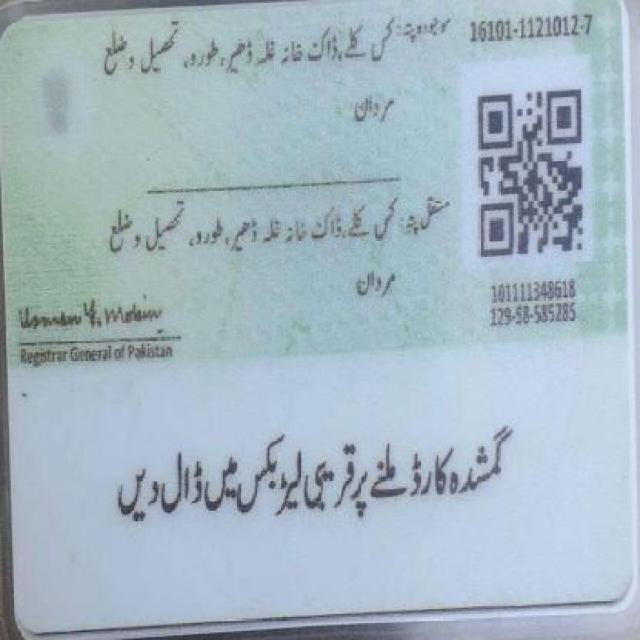Back: (6, 3, 631, 608)
